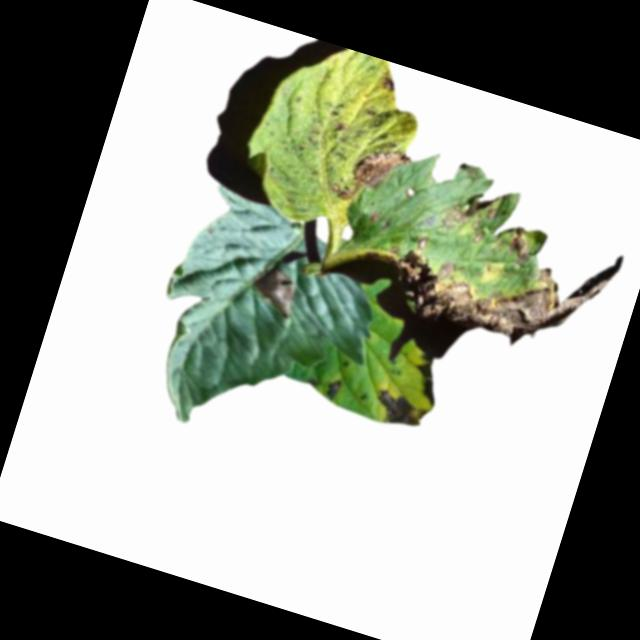Early_blight: (359, 184, 626, 370), (336, 136, 409, 216), (248, 262, 301, 317), (371, 386, 429, 433), (406, 357, 446, 410), (378, 73, 401, 95), (324, 377, 343, 402)
